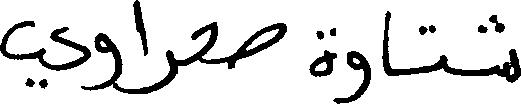X: (0, 16, 88, 94), (333, 23, 368, 103), (238, 18, 284, 64), (147, 42, 175, 98), (97, 28, 120, 96), (498, 18, 520, 87), (310, 24, 331, 81), (193, 17, 214, 68), (135, 0, 145, 98), (383, 6, 388, 80), (438, 50, 446, 76)
